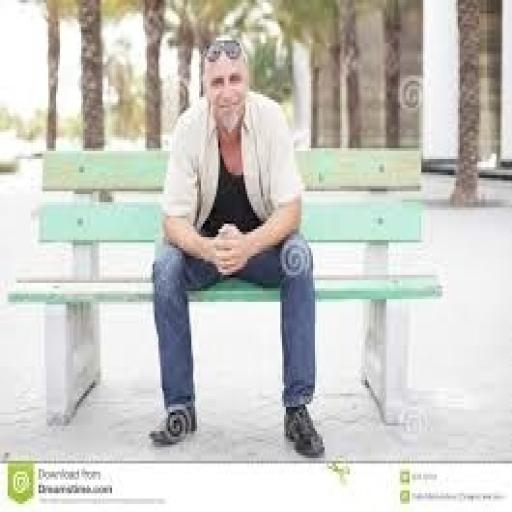sitting: (146, 32, 324, 458)
